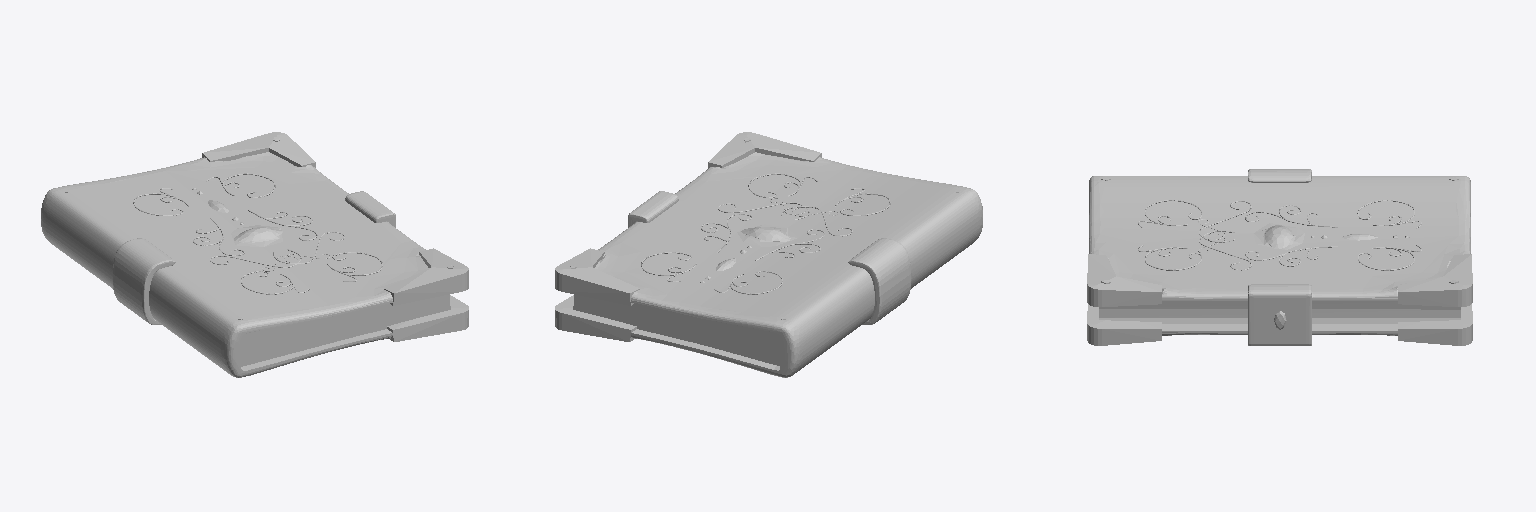
File: Magic_Book.obj
3 views of the same model, side by side, from view 1: azimuth 30°, elevation 25°; view 2: azimuth 150°, elevation 25°; view 3: azimuth 270°, elevation 25° (orthographic).
Visible parts, largest first — view 1: Magic_Book_Cube; view 2: Magic_Book_Cube; view 3: Magic_Book_Cube.
Boxes of the visible parts, x1,y1,x2,y2 form: Magic_Book_Cube: [41, 132, 468, 377]; Magic_Book_Cube: [555, 132, 982, 377]; Magic_Book_Cube: [1087, 169, 1472, 345].
Size of the model in its own units: 2.22 by 0.5255 by 2.89.